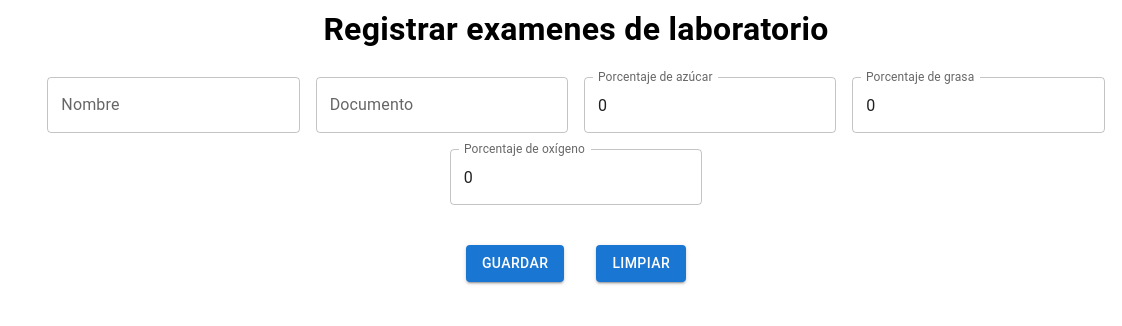
Test case: Test en componente Home › Valida que el campo nombre esta vacio
This screenshot has width=1122, height=326.
What coordinates should you click on to do the following:
click the button with test id "btn-guardar"
I would click on:
 (515, 263)
Its box is x1=466 y1=245 x2=564 y2=282.
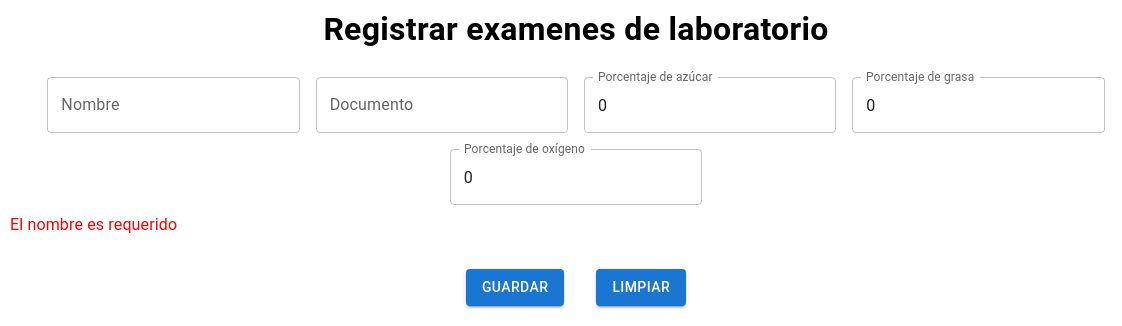
Expected: the text with test id "msg-error" reads "El nombre es requerido", x1=10 y1=215 x2=177 y2=234
